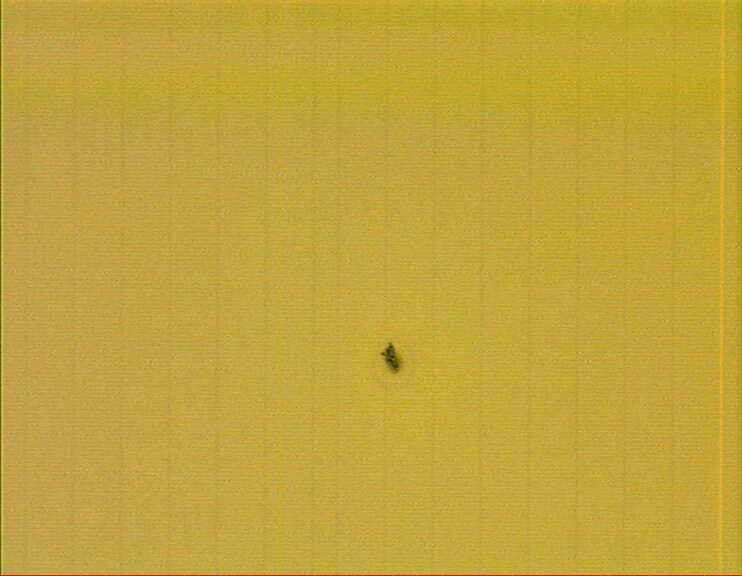PIQ PARTICLE: (377, 338, 409, 380)
